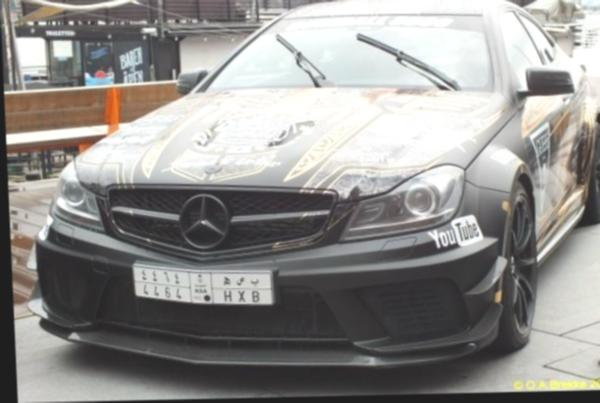License_Plate: (129, 257, 280, 312)
